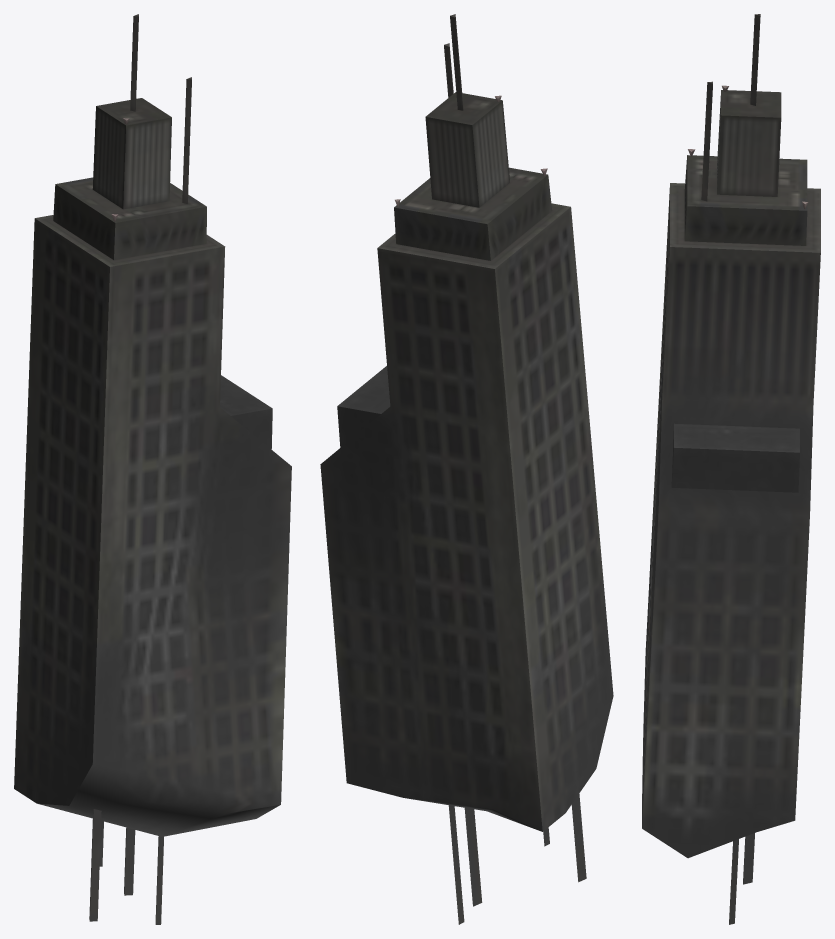
Rendered from skyBuildingAAB_pos_grp (19).fbx.
3 views of the same model, side by side, from view 1: azimuth 30°, elevation 25°; view 2: azimuth 150°, elevation 25°; view 3: azimuth 270°, elevation 25° (orthographic). The views are drawn at different scales.
Parts seen in each view (by area): view 1: skyBuildingAAB_geo; view 2: skyBuildingAAB_geo; view 3: skyBuildingAAB_geo.
Part boxes in pixels (x1,y1,x2,y2): skyBuildingAAB_geo: [14, 14, 291, 924]; skyBuildingAAB_geo: [320, 14, 613, 924]; skyBuildingAAB_geo: [642, 14, 820, 924].
Bounding box in the file's own units: 3.41 × 13.95 × 2.5.
1 material, 1 textured.
